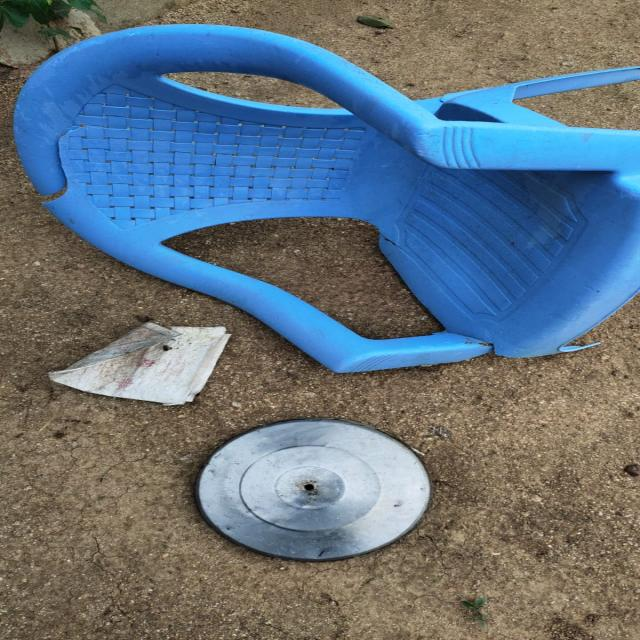metal: (133, 423, 468, 575)
paper: (21, 317, 276, 423)
plastic: (20, 36, 640, 330)
